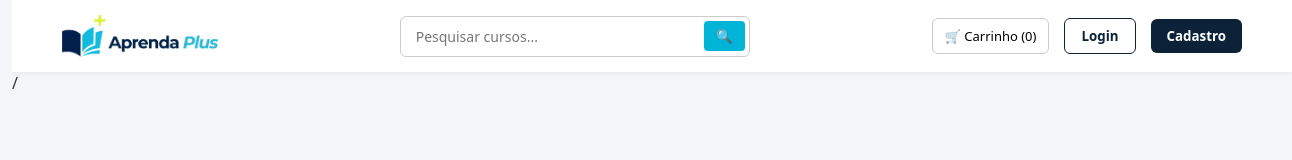
Scenario: Header: busca com sugestões › filtra enquanto digita, sem diferenciar acentos
The image size is (1292, 160).
Type "ciencia" into the field with placeholder "Pesquisar cursos..." at x=575, y=36, box [400,16,750,56]
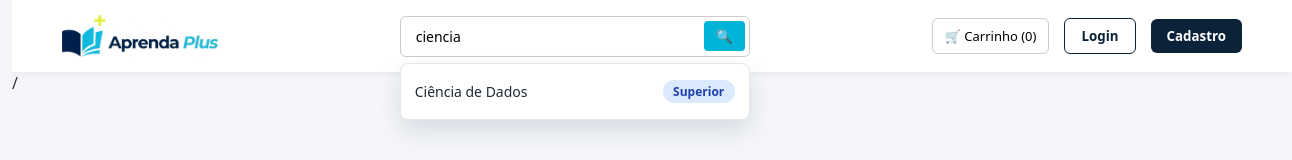
Result: the number of options is 1 at [415,80,735,103]
Result: the option shows "Ciência de Dados" at [415,80,735,103]
